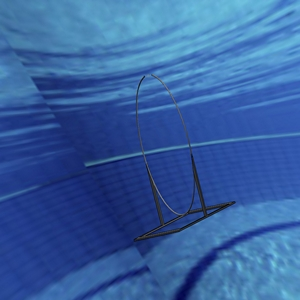circle: (129, 72, 237, 241)
